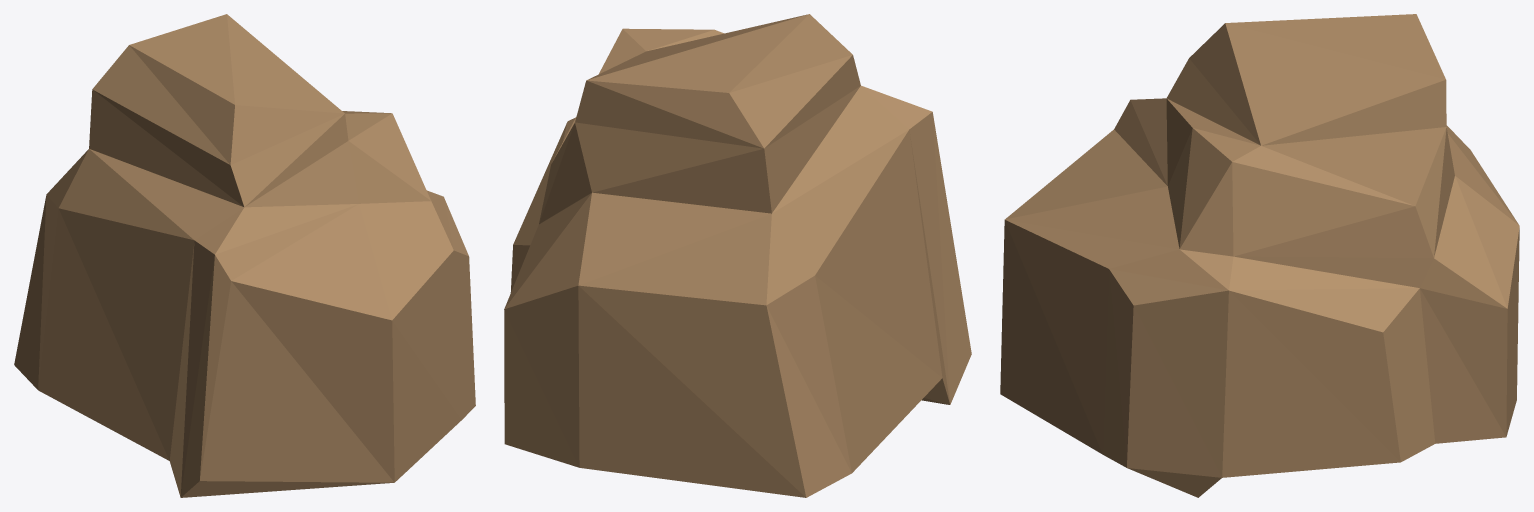
The model's file is boulder_desert_3.glb.
3 renders of one model, left to right at view 1: azimuth 30°, elevation 25°; view 2: azimuth 150°, elevation 25°; view 3: azimuth 270°, elevation 25°, orthographic. The views are drawn at different scales.
Visible parts, largest first — view 1: lod0; view 2: lod0; view 3: lod0.
Part boxes in pixels (x1=…): lod0: x1=14, y1=14, x2=475, y2=497; lod0: x1=504, y1=14, x2=971, y2=497; lod0: x1=1000, y1=14, x2=1519, y2=497.
Size of what is drawn, in the model's own units: 3.25 by 3.25 by 4.08.
